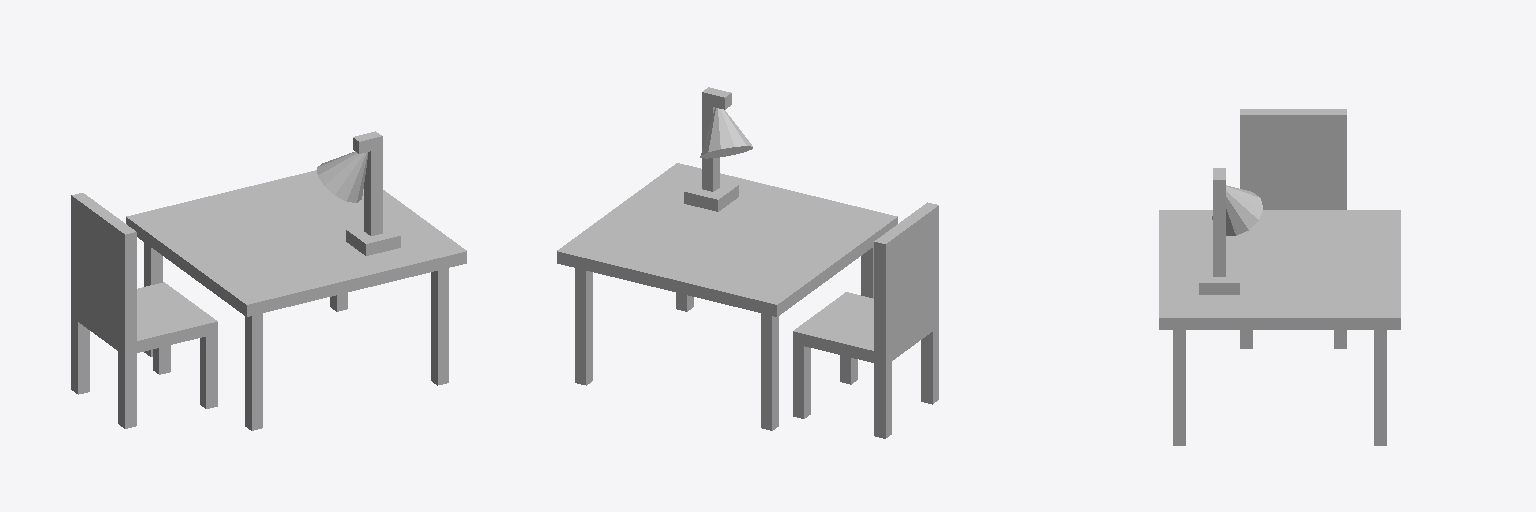
Rendered from rod1_table.obj.
The picture shows the model from 3 angles: view 1: azimuth 30°, elevation 25°; view 2: azimuth 150°, elevation 25°; view 3: azimuth 270°, elevation 25°; orthographic projection.
Visible parts, largest first — view 1: cube, cone; view 2: cube, cone; view 3: cube, cone.
Part boxes in pixels (x1,y1,x2,y2): cube: (71,131,466,430); cone: (317,151,367,202); cube: (557,87,938,438); cone: (700,108,752,158); cube: (1159,109,1400,445); cone: (1212,185,1262,235).
Bounding box in the file's own units: 1.62 × 1.25 × 1.12.